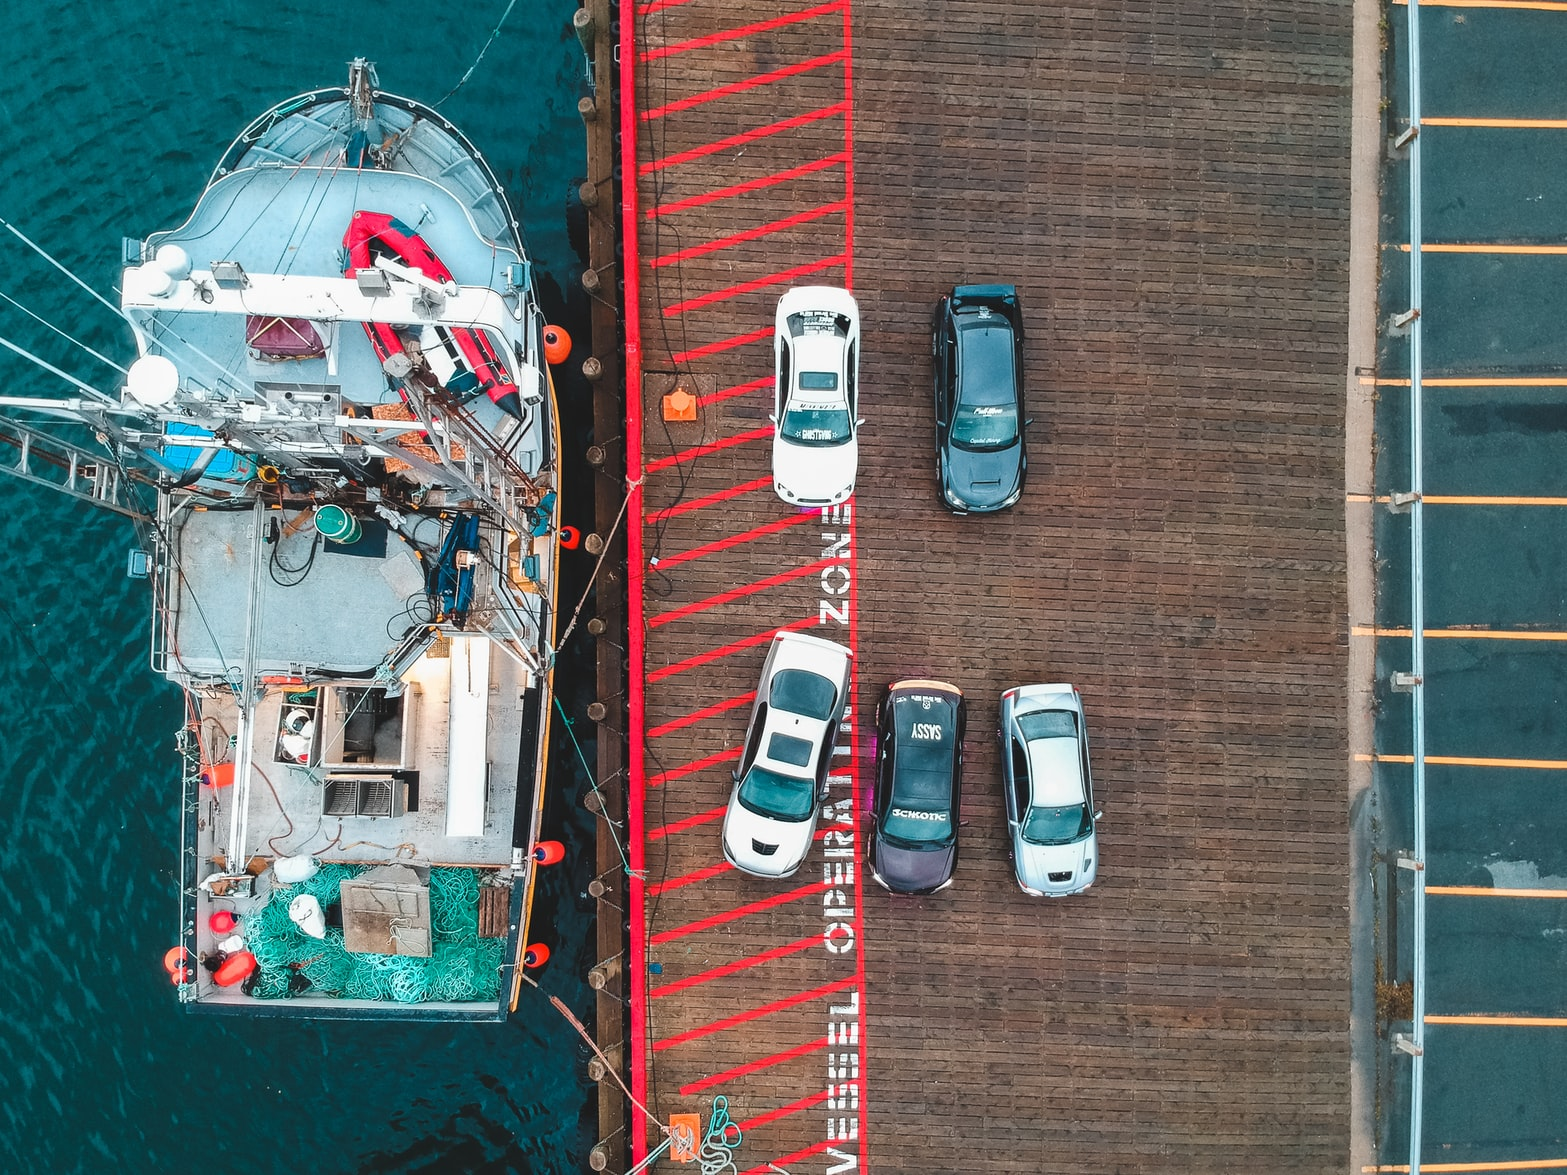car: (713, 613, 862, 891), (988, 669, 1110, 911), (925, 275, 1035, 526), (867, 666, 971, 924), (767, 274, 871, 517)
